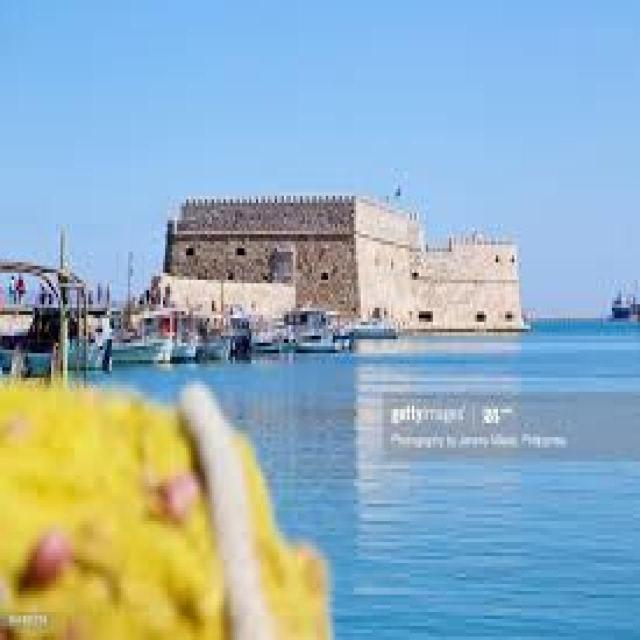Kules: (164, 185, 532, 339)
